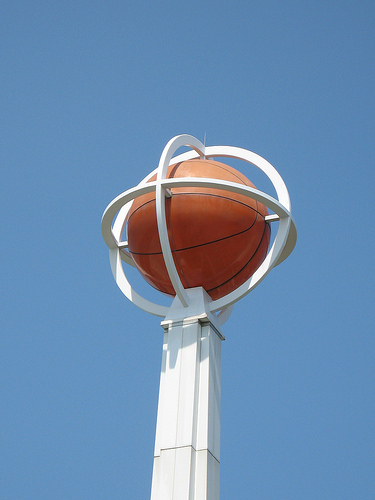basketball: (128, 159, 272, 295)
